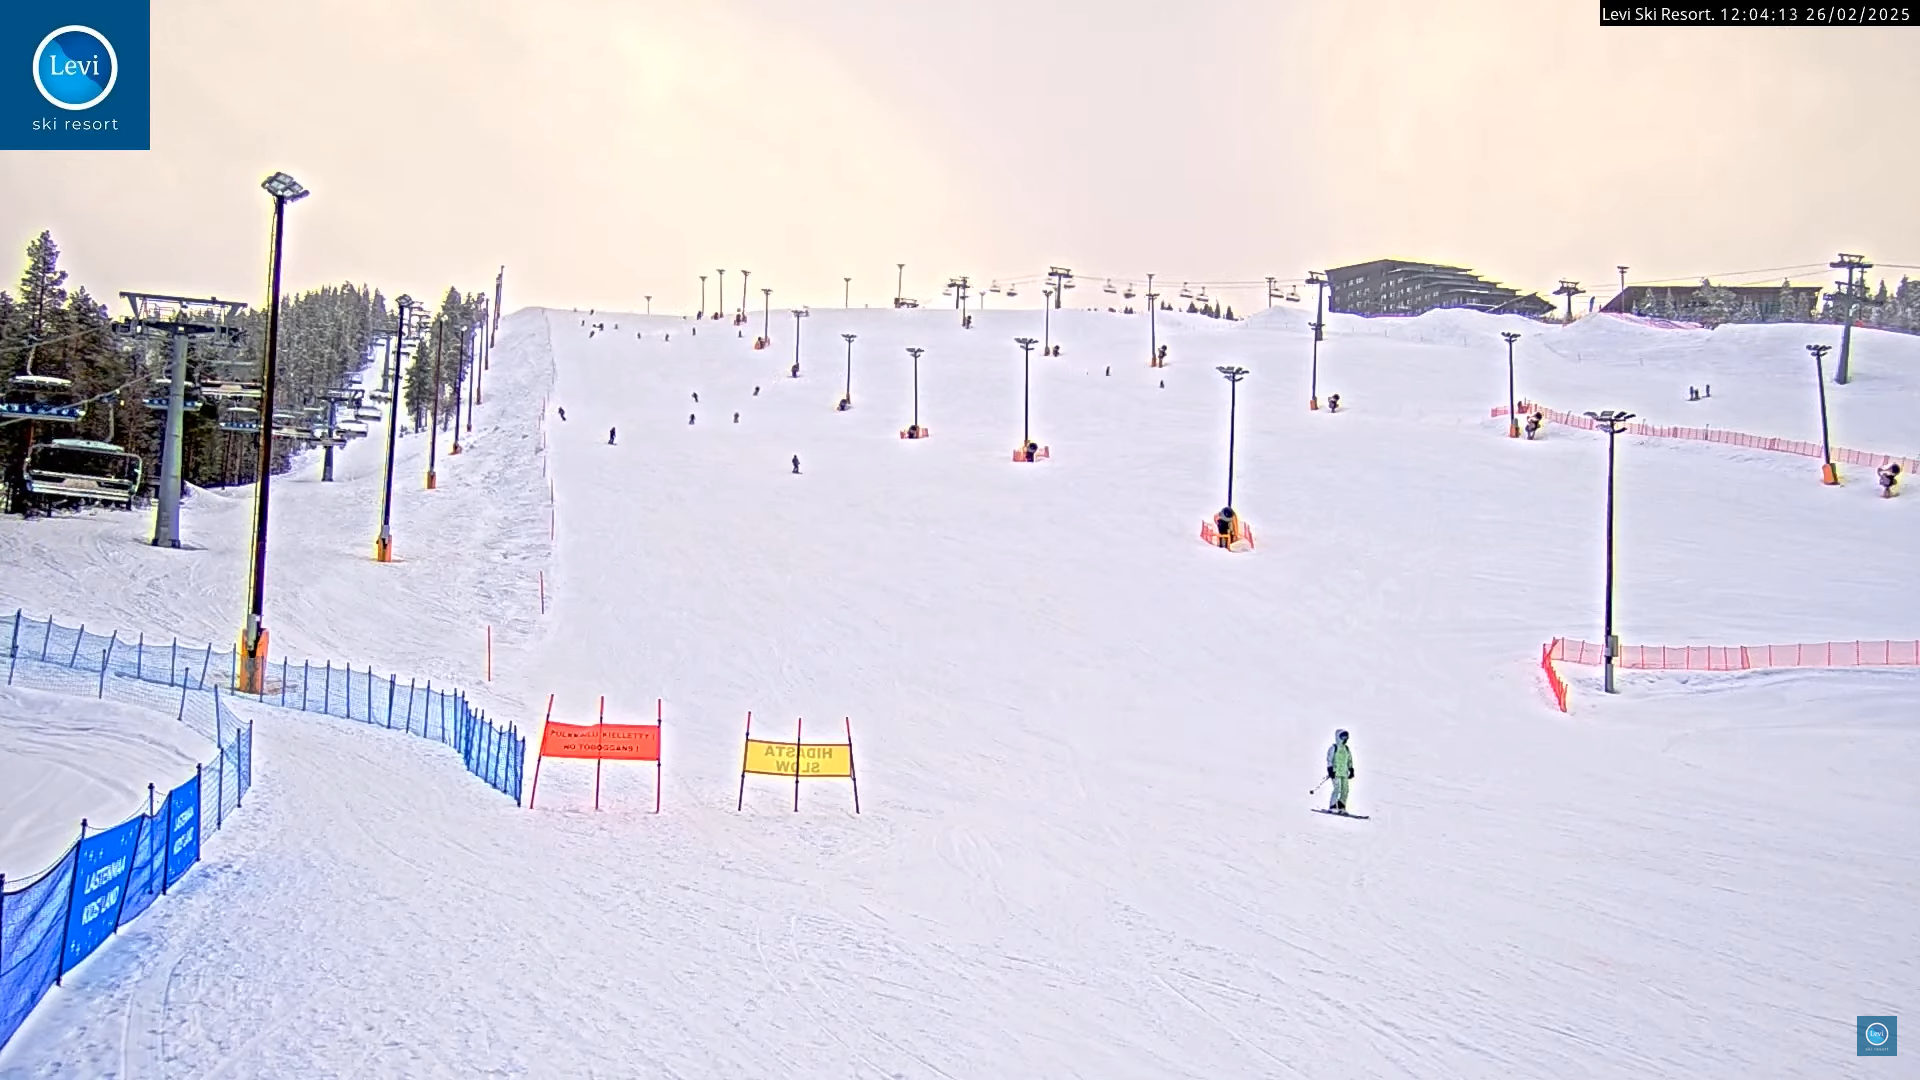skier: (1308, 724, 1377, 825)
